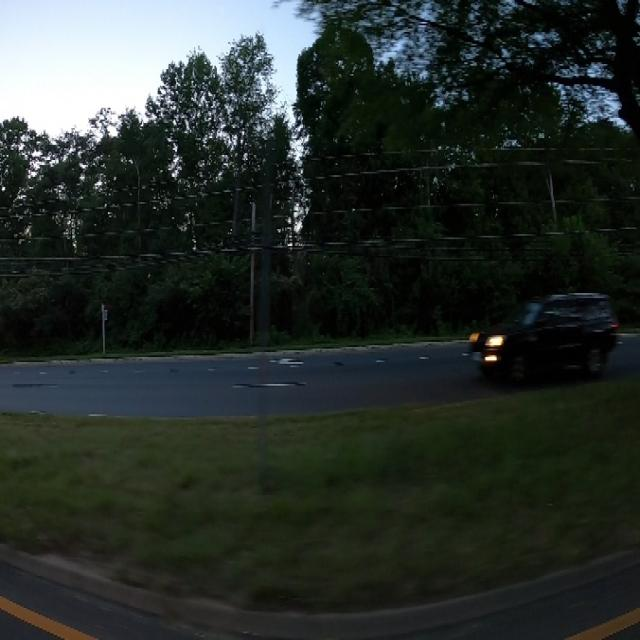cars: (463, 286, 623, 384)
